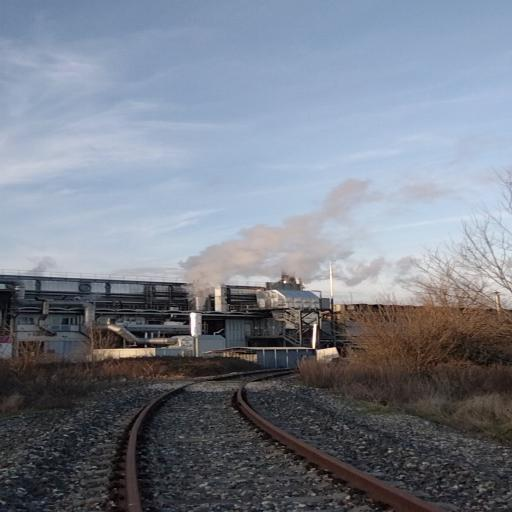leakage: (169, 168, 505, 315)
